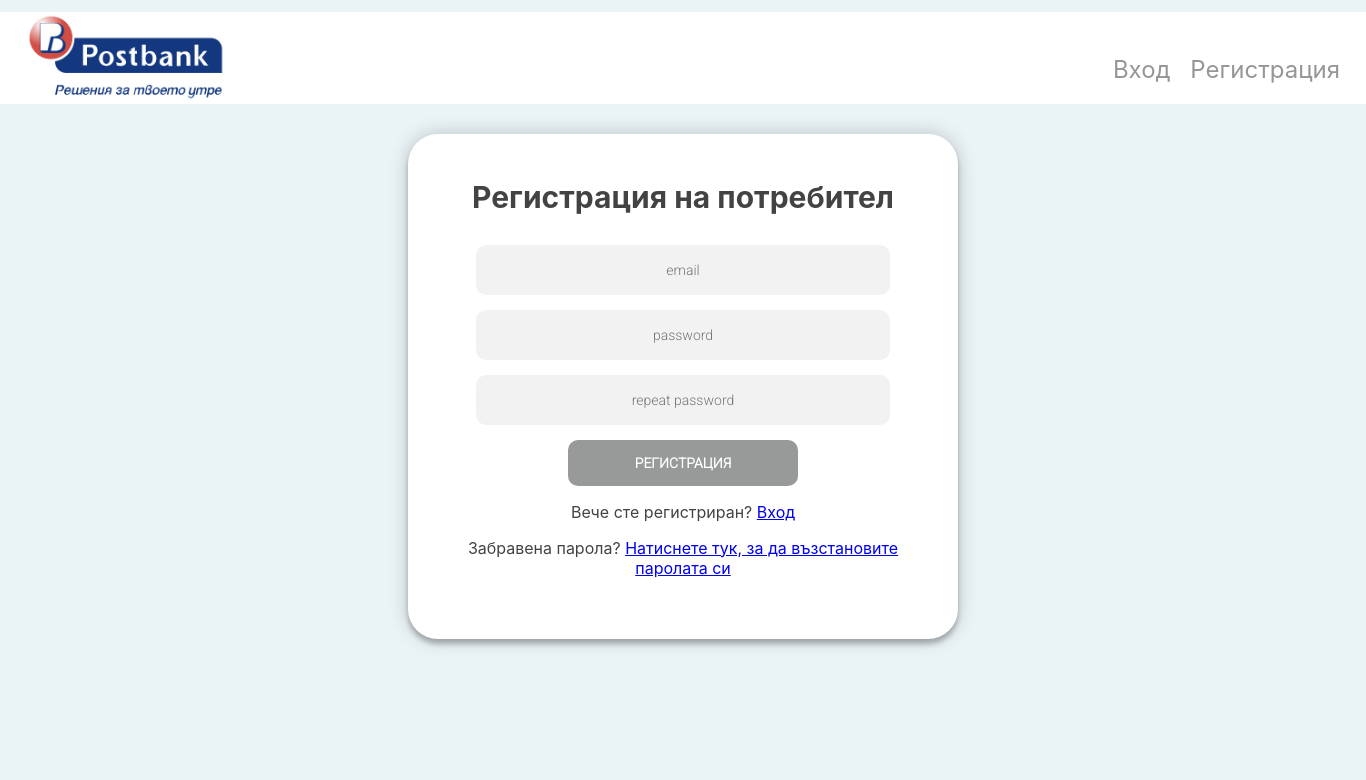
Test case: Check register form submit with Password and Repassword - does not match
The image size is (1366, 780).
// Change the Email
Type "ndimov@postbank.bg" into the field with placeholder "email".
click(683, 270); type("ndimov@postbank.bg")  # box left=476, top=245, right=890, bottom=295
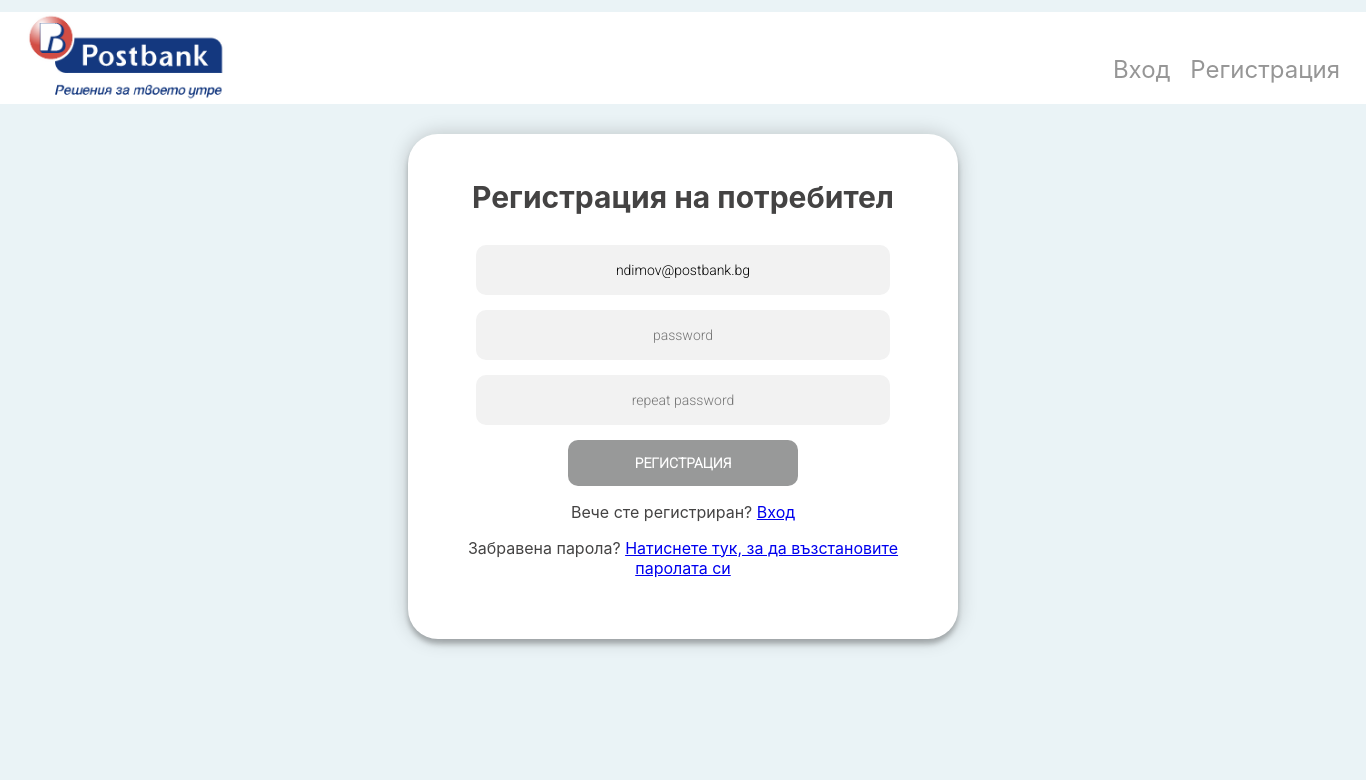
// Change the password
Type "1234" into the password field with placeholder "password".
click(683, 335); type("1234")  # box left=476, top=310, right=890, bottom=360
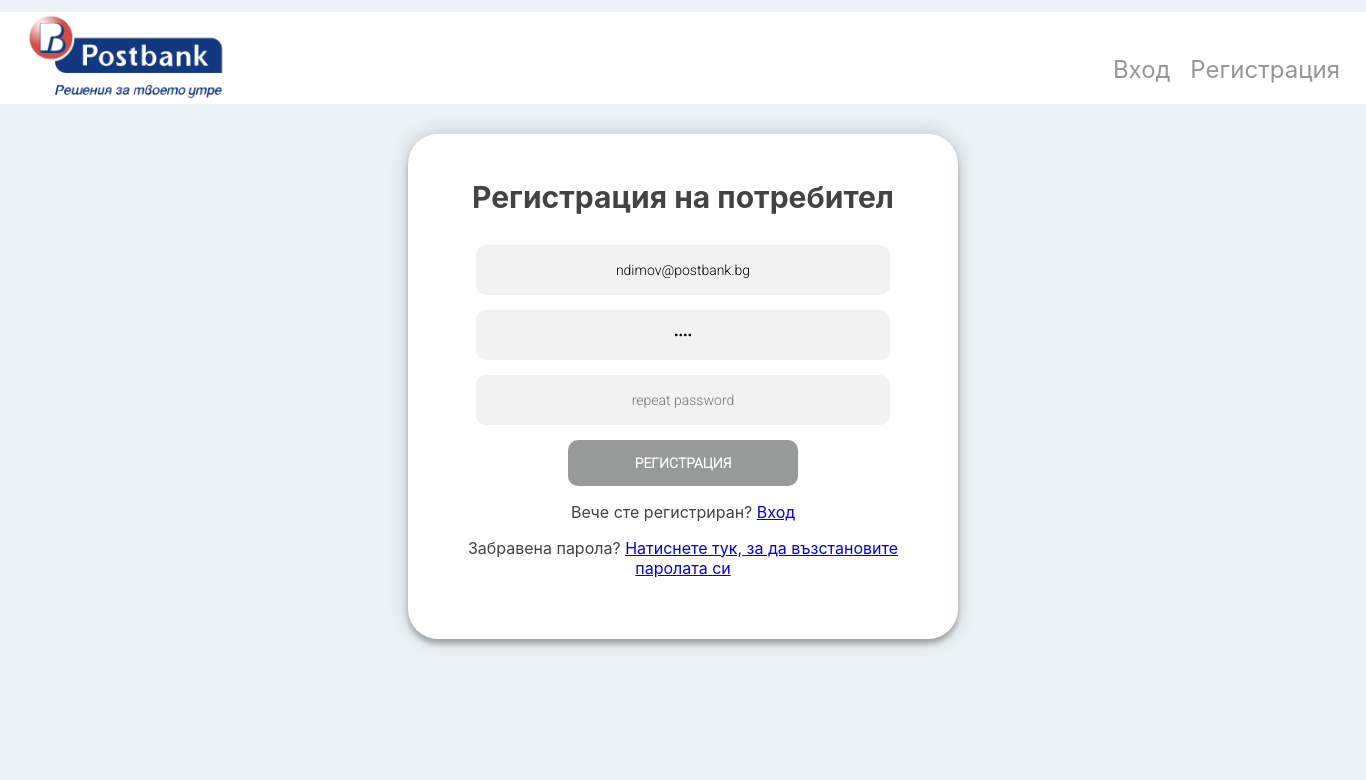
// Change the repeat paasword
Type "123" into the password field with placeholder "repeat password".
click(683, 400); type("123")  # box left=476, top=375, right=890, bottom=425
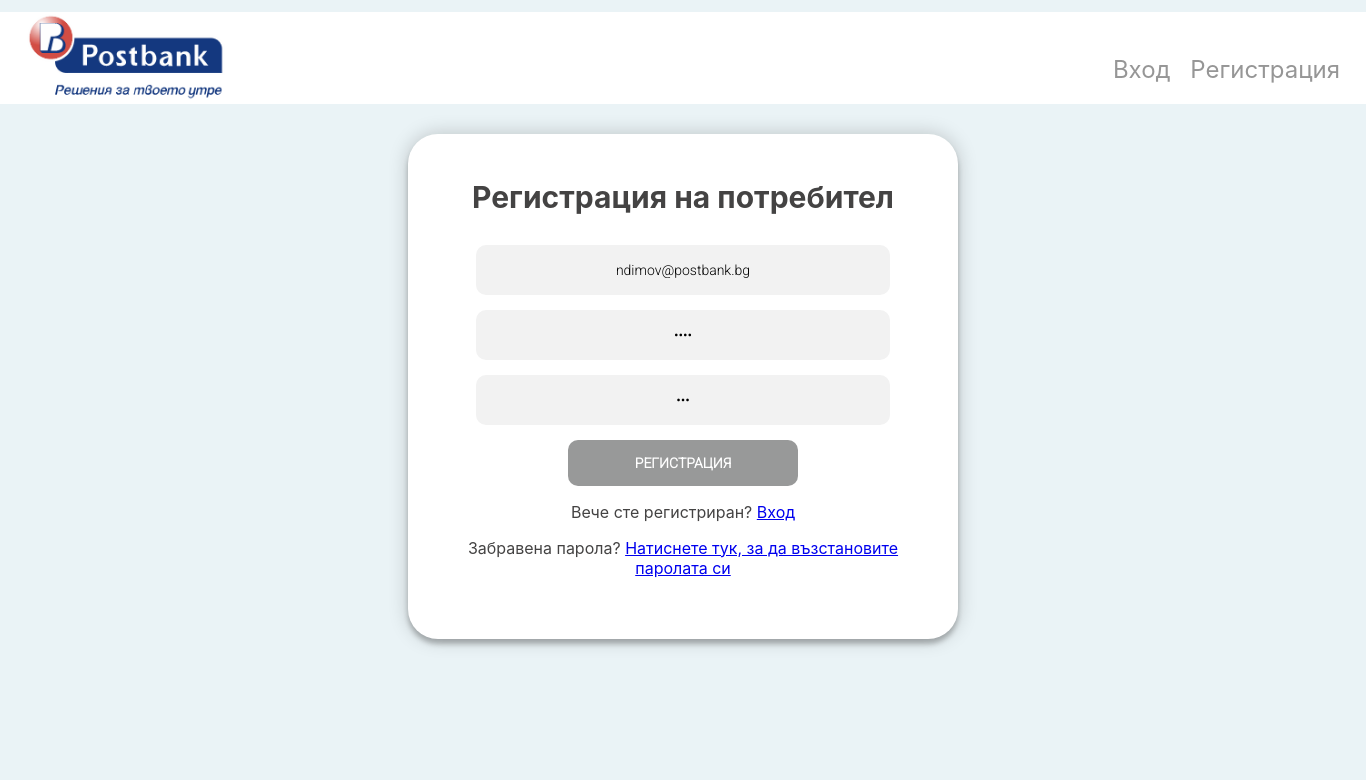
Click the button "Регистрация".
click(683, 463)  # box left=568, top=440, right=798, bottom=486
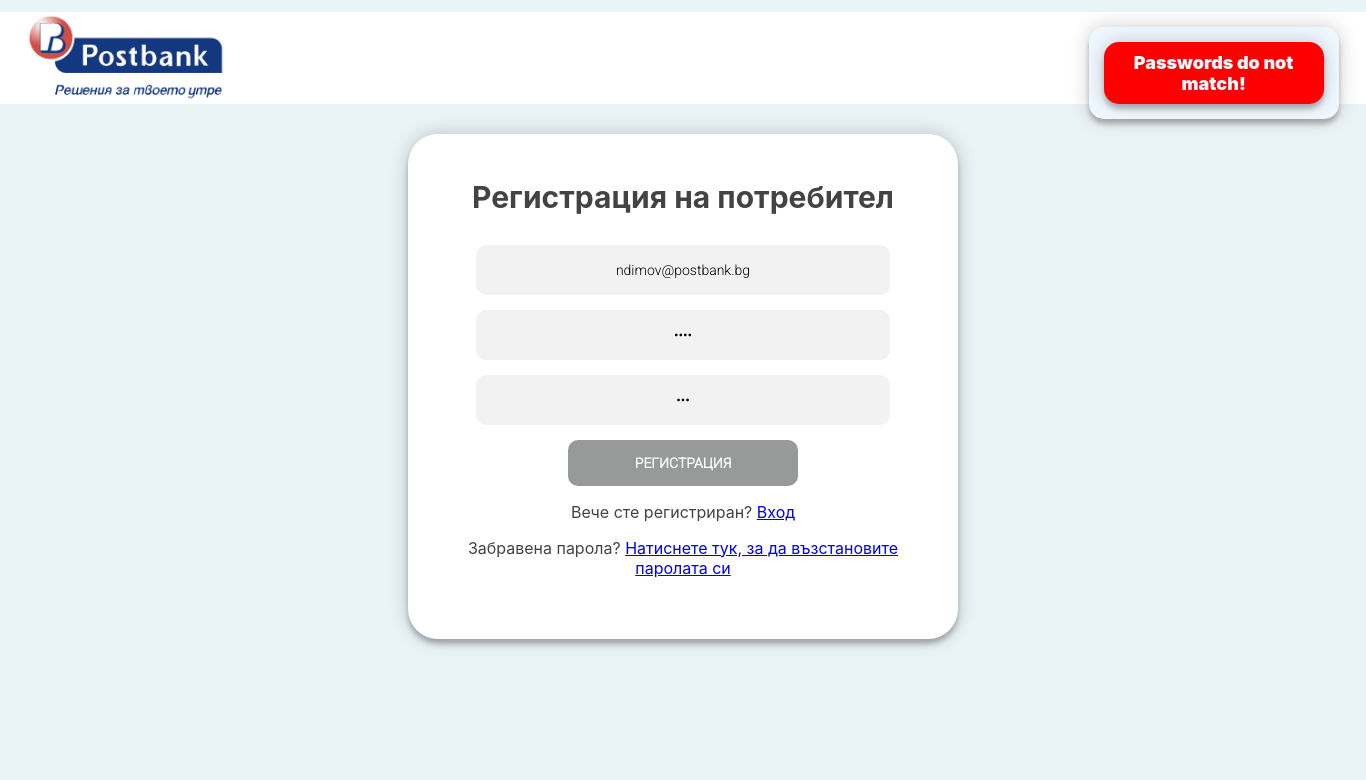
Expected: the text "Passwords do not match!" is shown, left=1134, top=52, right=1294, bottom=94
